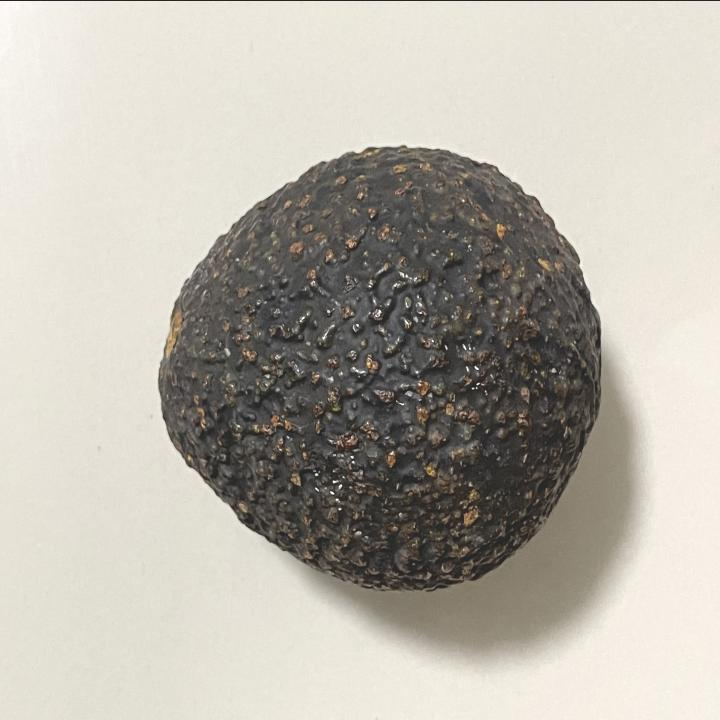Level2: (152, 132, 610, 596)
